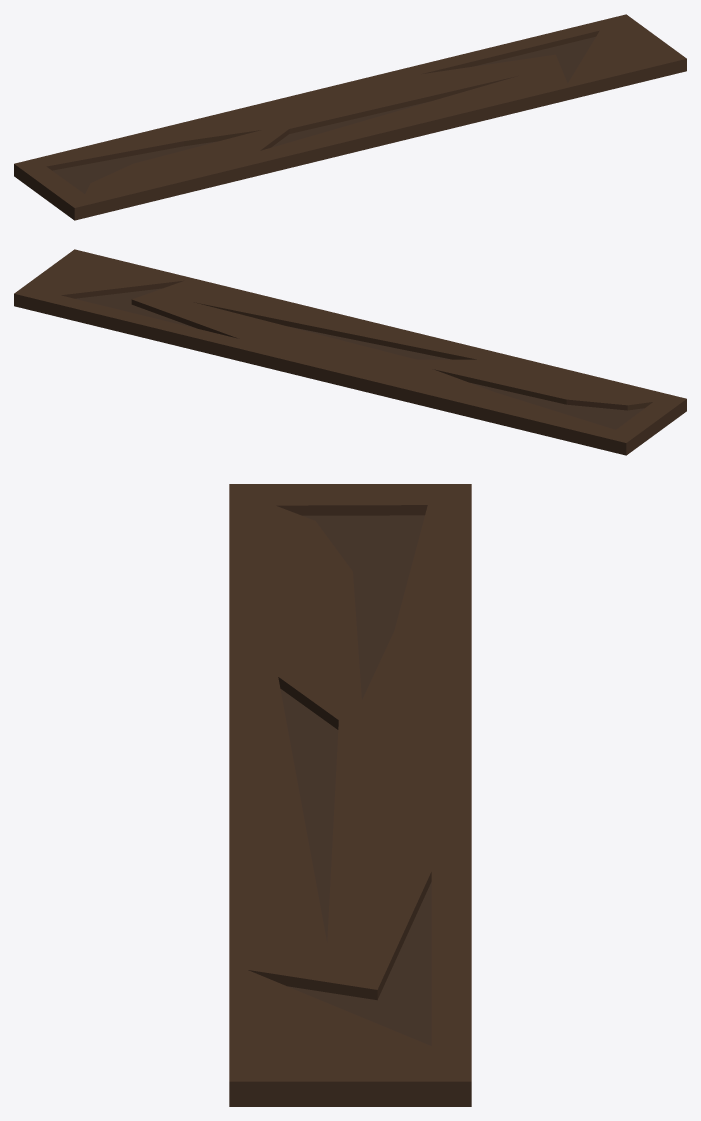
Rendered from Planche a cassé 2 mine.fbx.
The picture shows the model from 3 angles, top to bottom: view 1: azimuth 30°, elevation 25°; view 2: azimuth 150°, elevation 25°; view 3: azimuth 270°, elevation 25°; orthographic projection. The views are drawn at different scales.
Parts seen in each view (by area): view 1: Cube; view 2: Cube; view 3: Cube.
Boxes of the visible parts, x1,y1,x2,y2 form: Cube: (14,14,686,220); Cube: (14,249,686,455); Cube: (229,484,471,1106).
Size of the model in its own units: 864 by 16.89 by 148.
